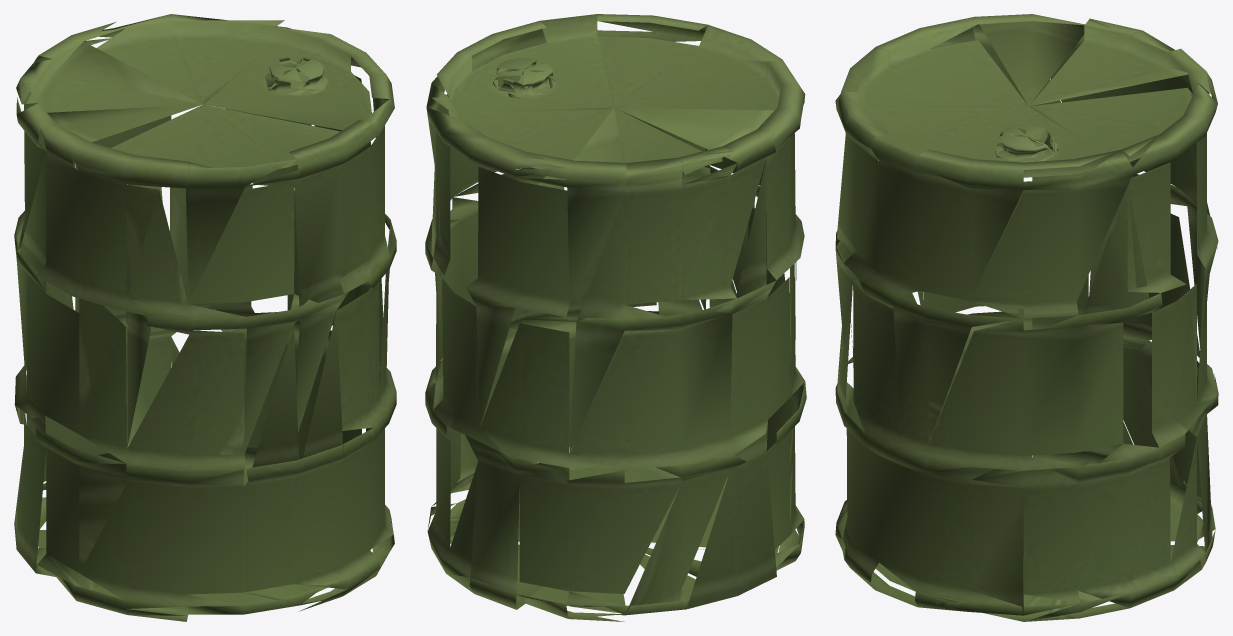
The model's file is grenade-barrel-low.glb.
3 renders of one model, left to right at view 1: azimuth 30°, elevation 25°; view 2: azimuth 150°, elevation 25°; view 3: azimuth 270°, elevation 25°, orthographic.
Size of the model in its own units: 0.7261 by 0.9502 by 0.7295.
Materials: 1 (1 with a texture image).
